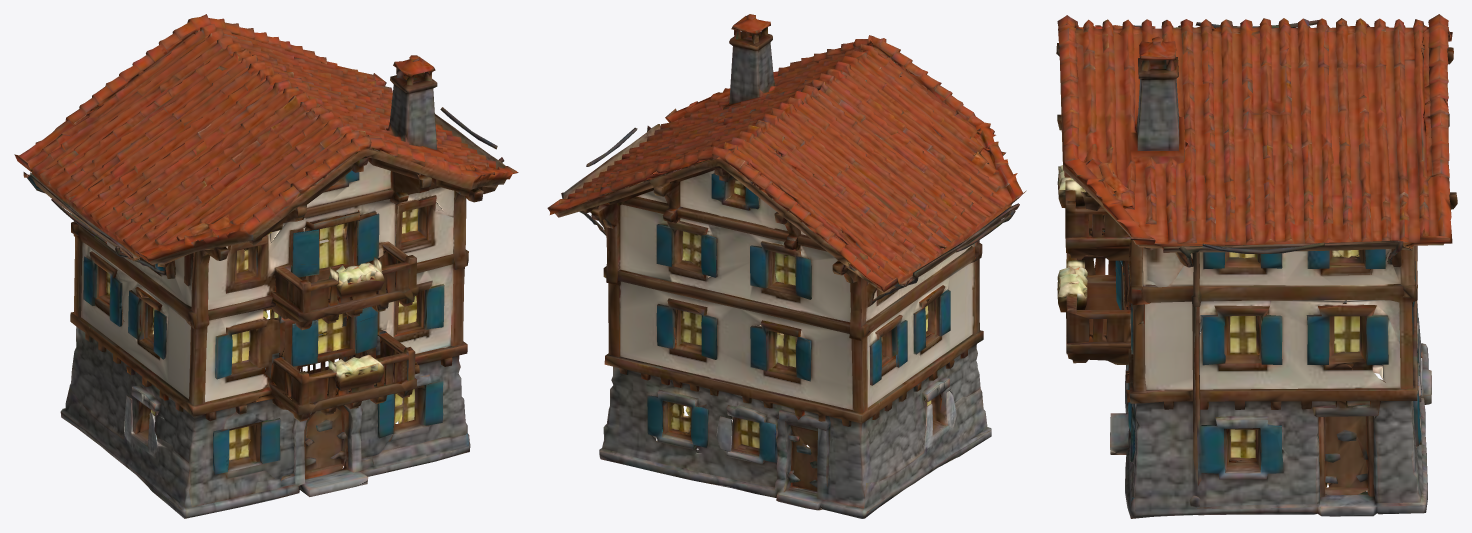
The picture shows the model from 3 angles, left to right: view 1: azimuth 30°, elevation 25°; view 2: azimuth 150°, elevation 25°; view 3: azimuth 270°, elevation 25°; orthographic projection. The views are drawn at different scales.
Visible parts, largest first — view 1: alpine__villa_3__native_mobile; view 2: alpine__villa_3__native_mobile; view 3: alpine__villa_3__native_mobile.
Boxes of the visible parts, x1,y1,x2,y2 form: alpine__villa_3__native_mobile: (14,14,518,518); alpine__villa_3__native_mobile: (547,14,1026,518); alpine__villa_3__native_mobile: (1056,14,1457,518).
Bounding box in the file's own units: 1 × 0.9553 × 0.7629.
Materials: 1 (1 with a texture image).
